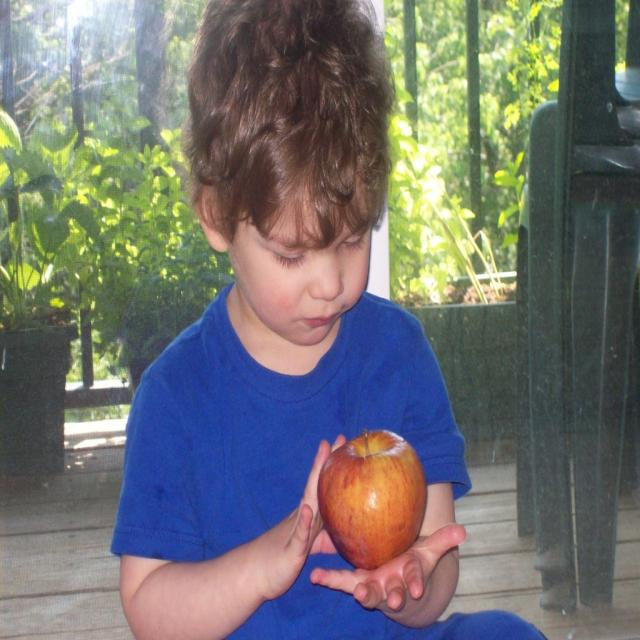Healty Apple: (317, 441, 439, 583)
